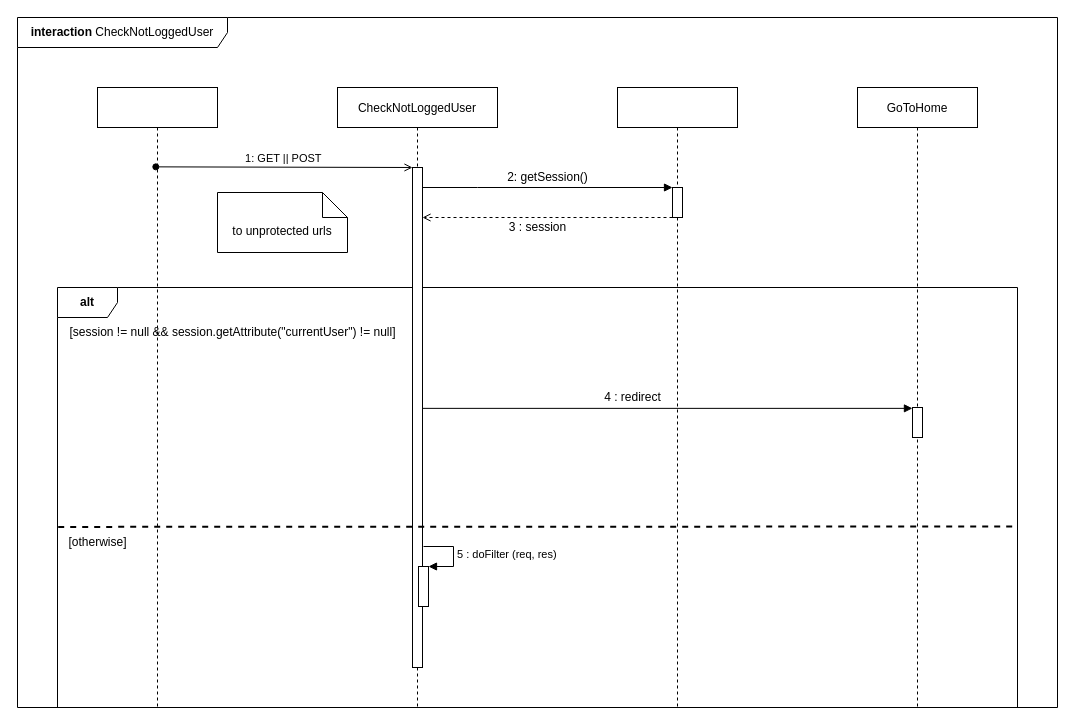
Some shapes in this 1075 by 725 pixel diagram are drawn without their labels. The box of each missing label's shape, as (x1, y1, x2, y2) in pixels:
Browser: (96, 86, 218, 708)
Session: (616, 86, 738, 708)
